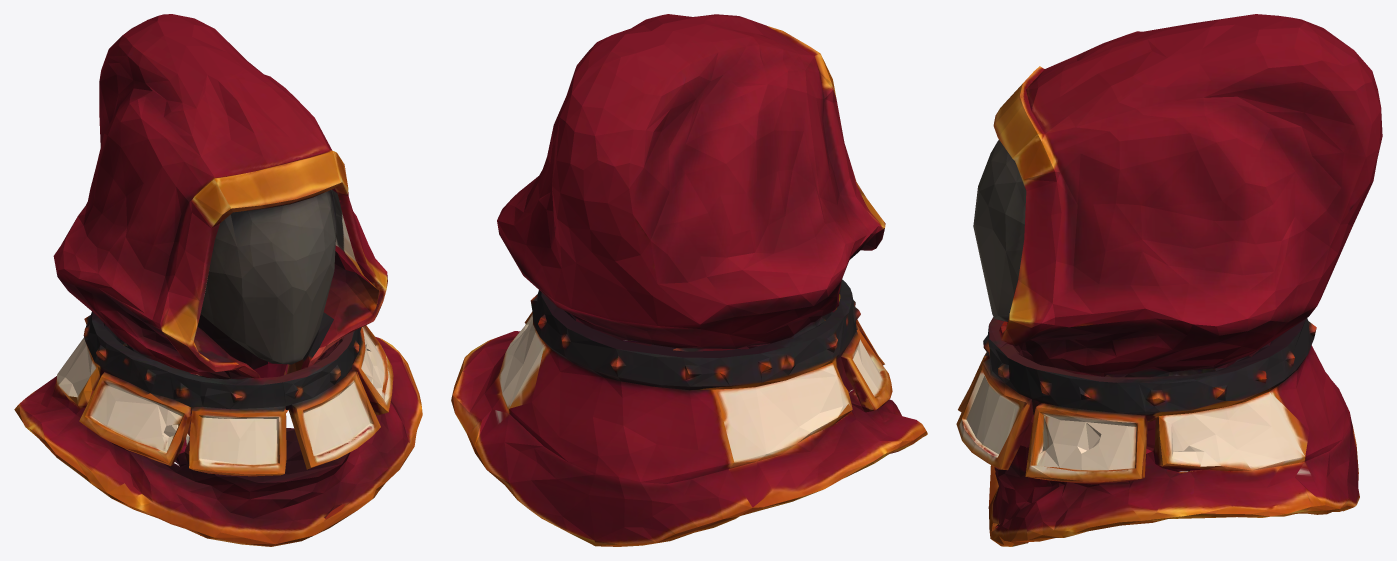
File: dsa_herbalist_helm.glb
3 views of the same model, side by side, from view 1: azimuth 30°, elevation 25°; view 2: azimuth 150°, elevation 25°; view 3: azimuth 270°, elevation 25° (orthographic). The views are drawn at different scales.
Parts seen in each view (by area): view 1: tmp1j8thygs.ply; view 2: tmp1j8thygs.ply; view 3: tmp1j8thygs.ply.
Boxes of the visible parts, x1,y1,x2,y2 form: tmp1j8thygs.ply: (14,14,422,546); tmp1j8thygs.ply: (451,14,927,546); tmp1j8thygs.ply: (956,14,1382,546).
Bounding box in the file's own units: 1.74 × 1.99 × 1.53.
Materials: 1 (1 with a texture image).
